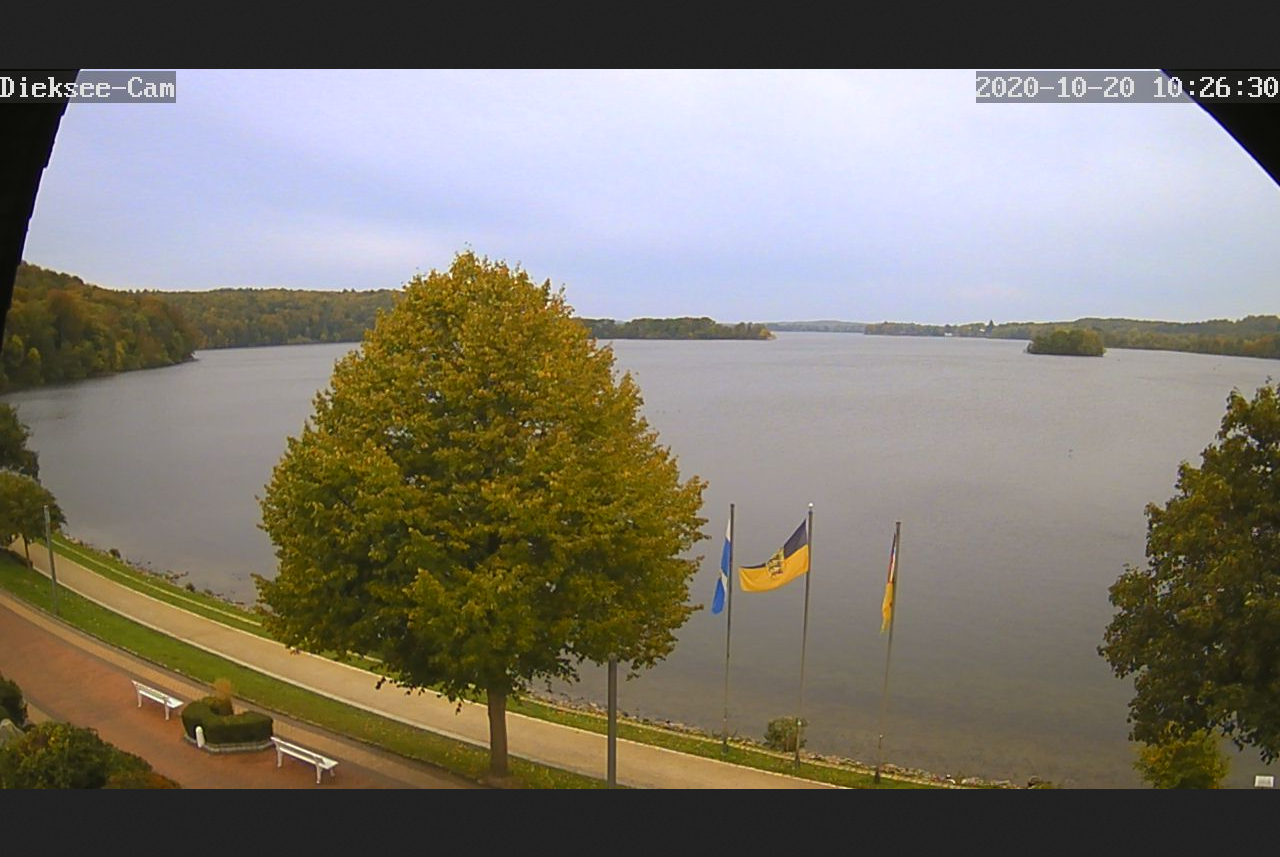maybe: (732, 512, 814, 601)
no: (871, 513, 908, 639)
yes: (706, 502, 743, 629)
